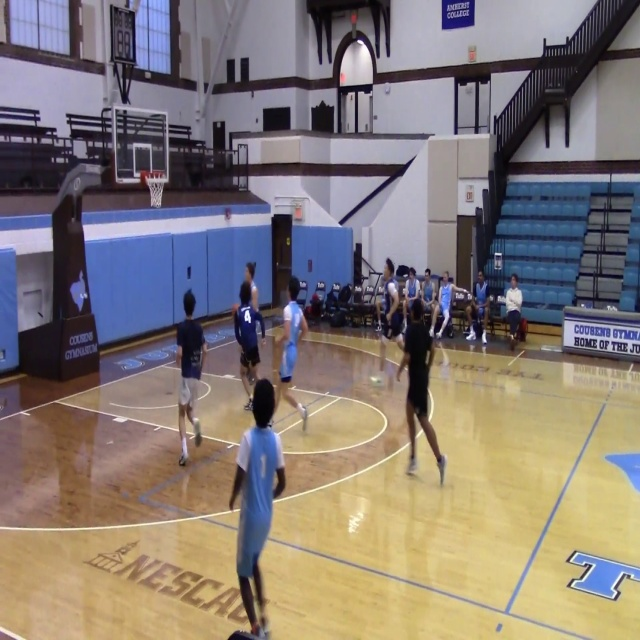Basketball: (369, 375, 382, 386)
